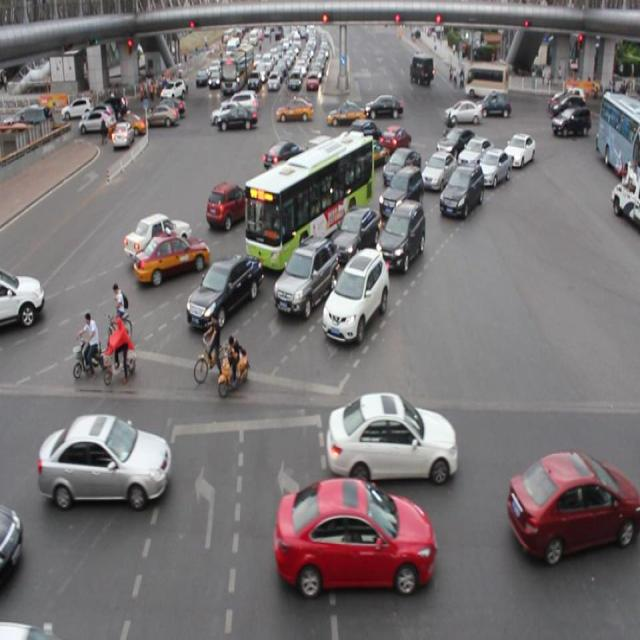car: (273, 478, 432, 594), (506, 445, 640, 561), (38, 410, 170, 506), (326, 388, 454, 484), (322, 246, 387, 344), (187, 254, 263, 324), (273, 238, 335, 314), (134, 229, 208, 282), (376, 200, 424, 272), (125, 212, 191, 263), (328, 206, 380, 261), (438, 163, 484, 220), (0, 269, 42, 325), (379, 164, 422, 216), (205, 184, 250, 228), (274, 180, 321, 221), (259, 163, 304, 203), (382, 148, 421, 190), (310, 160, 353, 198), (420, 149, 455, 191), (263, 140, 303, 176), (344, 116, 381, 153), (437, 128, 474, 164), (476, 150, 509, 188), (458, 136, 492, 171), (350, 136, 385, 168), (502, 134, 532, 167), (378, 124, 409, 155)
truck: (301, 134, 341, 175)
van: (246, 137, 373, 270)
